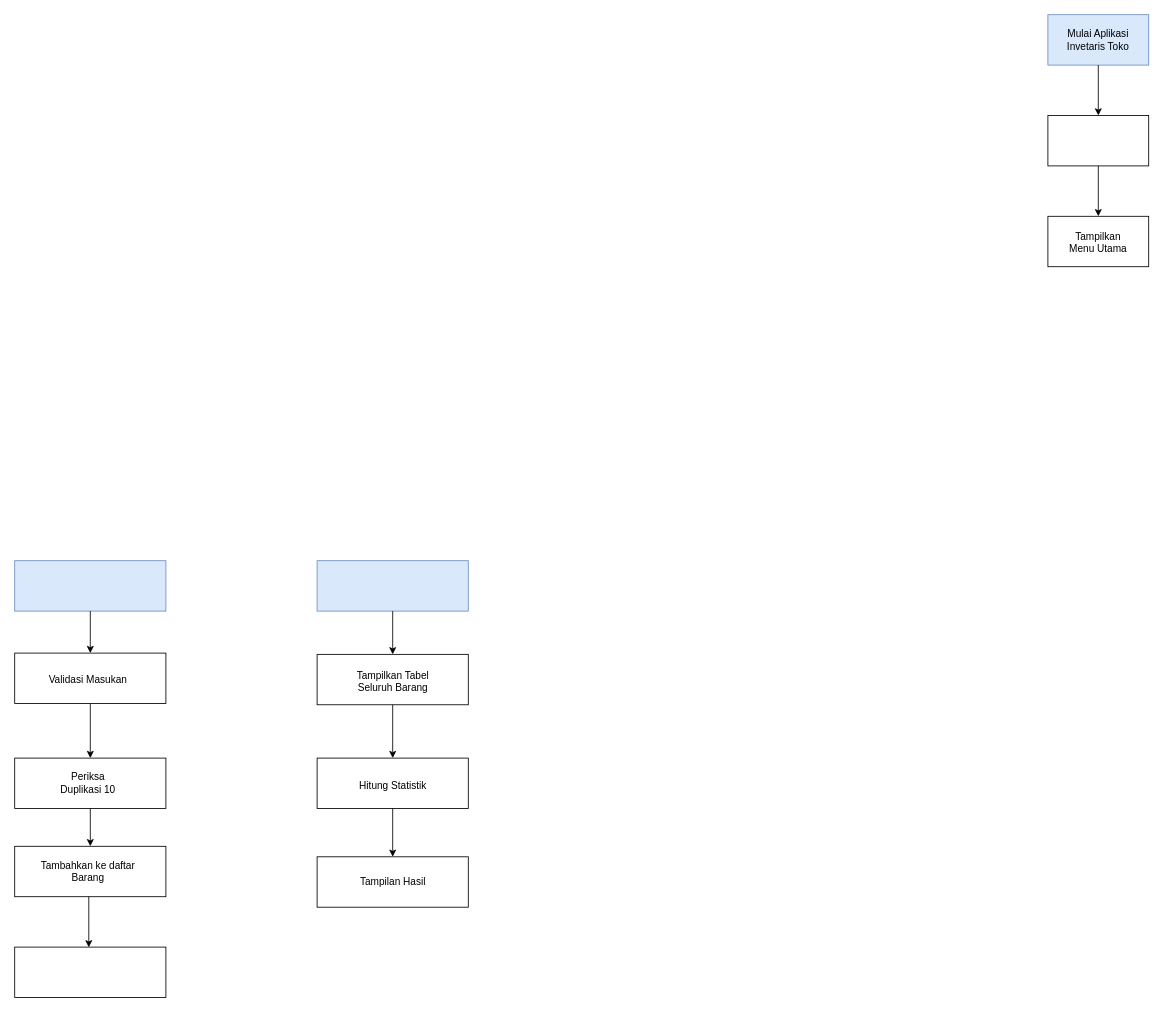
The diagram is 1163 pixels wide and 1012 high, and some of its shapes have lost their labels. The shapes that lost their labels are listed below. From the top down, each one's centre as x and y in pixels, then its label:
At pixel 1098 140: "Muat Data Awal 5 Barang".
At pixel 90 585: "1. Tambah Barang".
At pixel 392 585: "2. Lihat Semua Barang".
At pixel 90 972: "Perbarui Data Barang".
